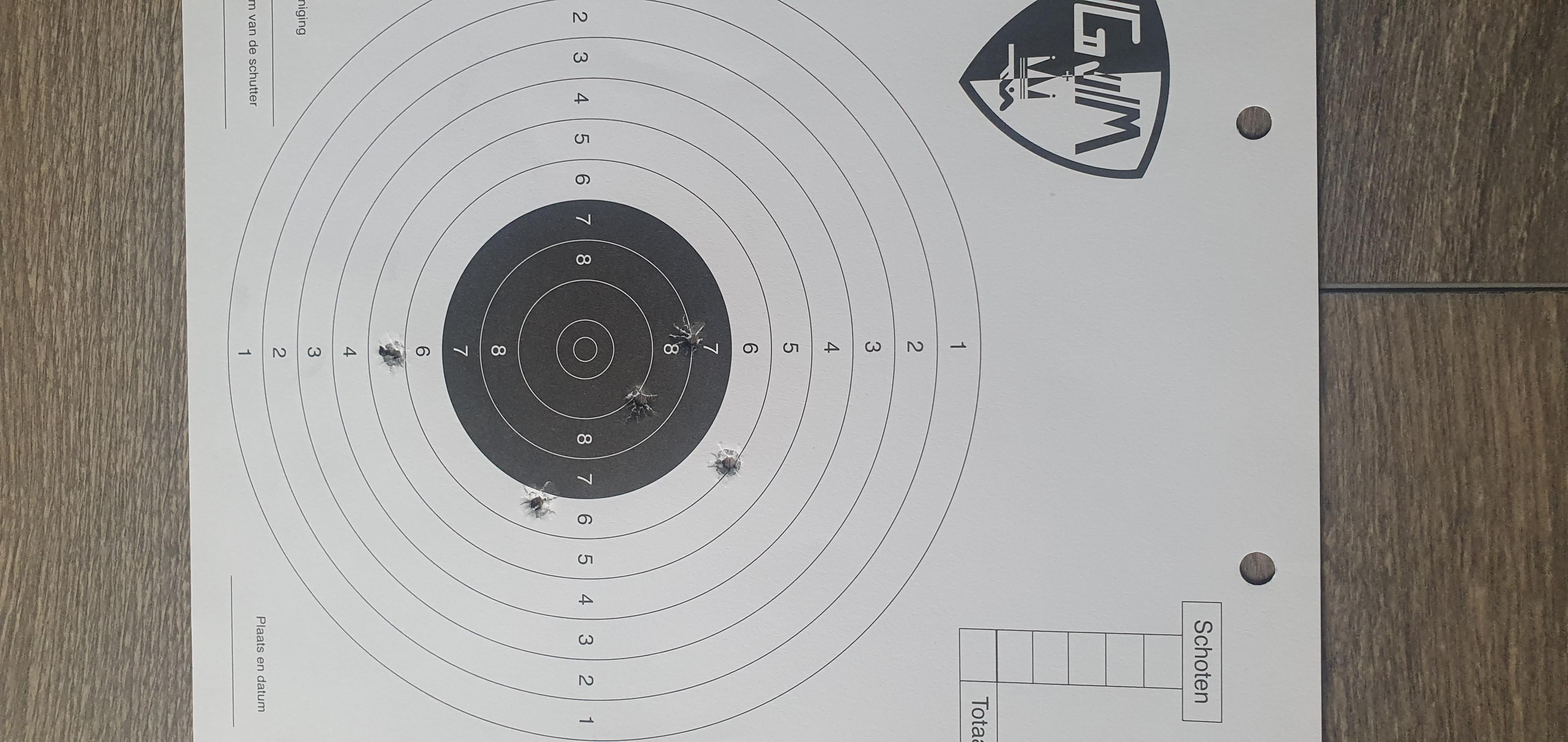hole: (548, 333, 637, 353), (461, 246, 558, 263), (817, 316, 903, 334), (674, 294, 757, 312), (782, 178, 861, 194)
